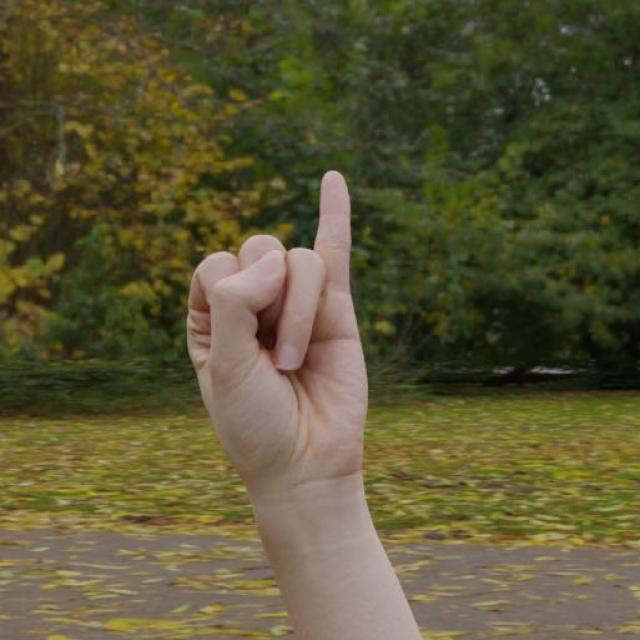I: (178, 159, 387, 533)
